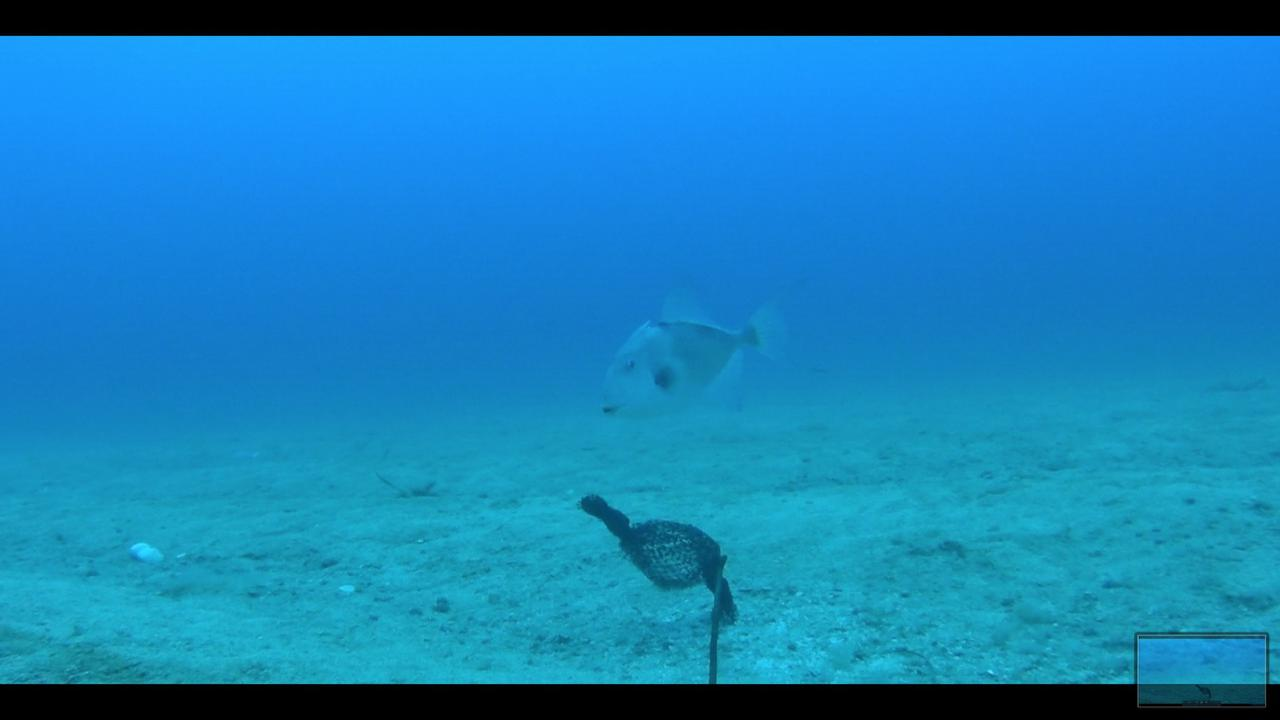balistes: (596, 276, 846, 423)
